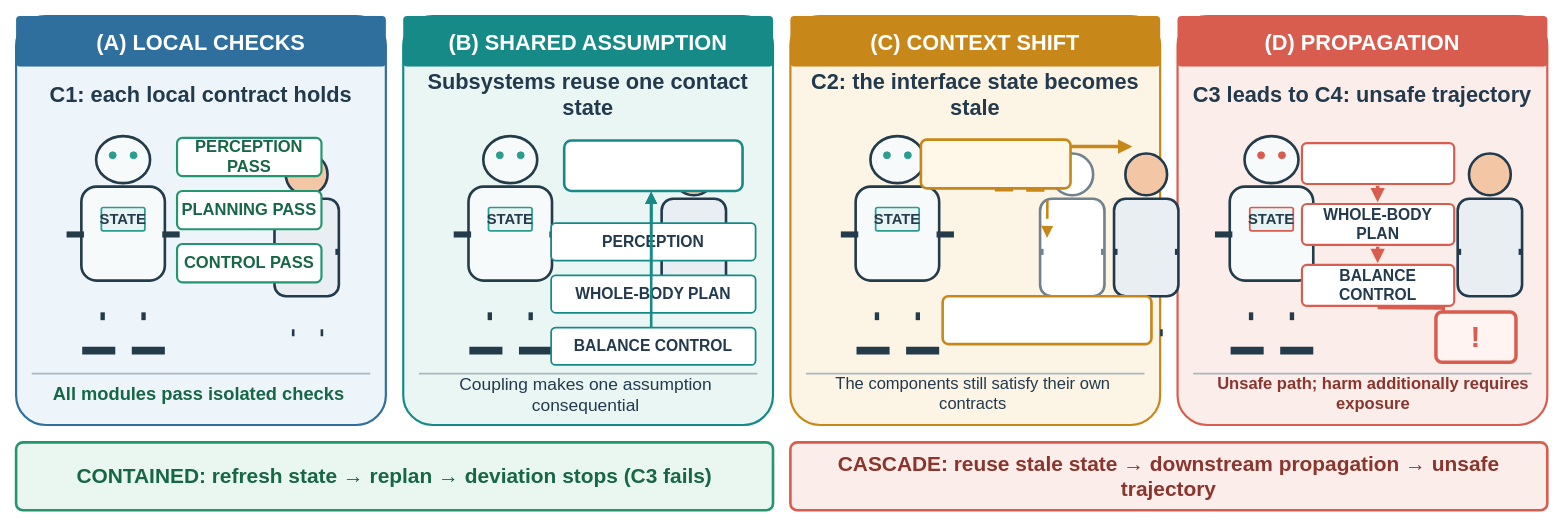
Image size: 1563x526. Some labels were removed from this diagram. The box of each missing label's shape, as (x1, y1, x2, y2) in pixels:
SHARED CONTACT STATE: (562, 139, 743, 192)
STALE STATE: (1300, 142, 1455, 185)
STATE: OLD POSE: (919, 138, 1071, 189)
TIMING MISMATCH: (941, 294, 1152, 345)
